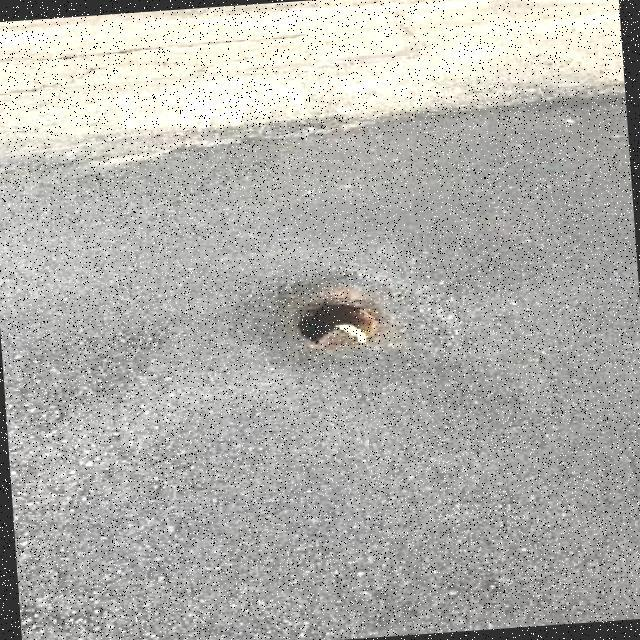Pothole: (293, 287, 383, 352)
